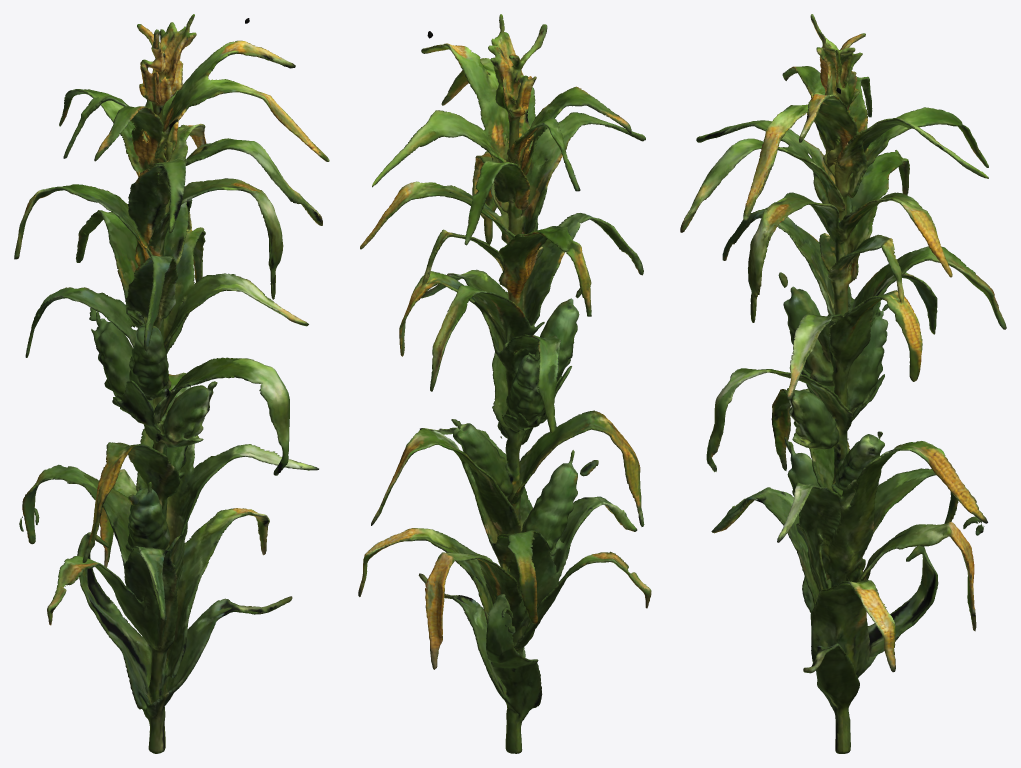
File: tall_corn_plant_high_0502172145.glb
3 views of the same model, side by side, from view 1: azimuth 30°, elevation 25°; view 2: azimuth 150°, elevation 25°; view 3: azimuth 270°, elevation 25° (orthographic). The views are drawn at different scales.
Size of the model in its own units: 0.7256 by 1.98 by 0.8002.
1 material, 1 textured.
